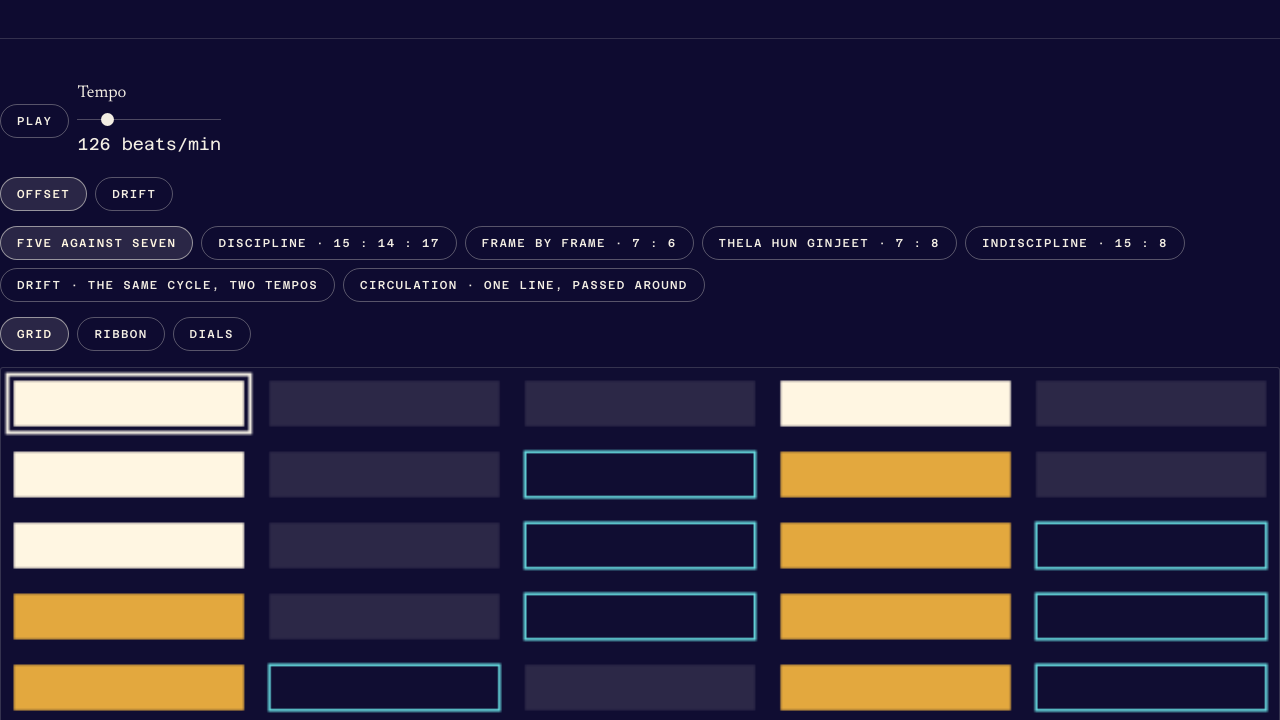
Test case: rendering and presets › loads a preset, updating tempo, voices and readouts
Click the button "Frame by Frame · 7 : 6": click(579, 243) [465,226,694,260]
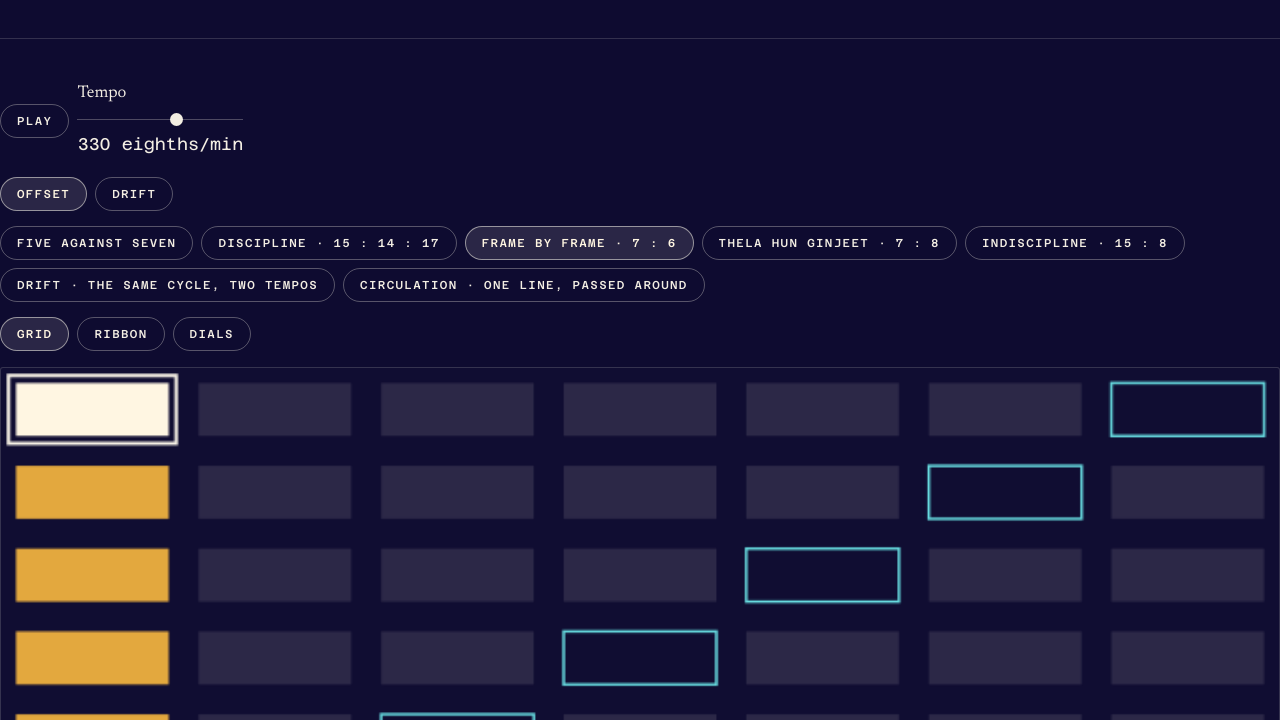
expect the text "330 eighths/min" is shown: met, box [77,134,243,154]
